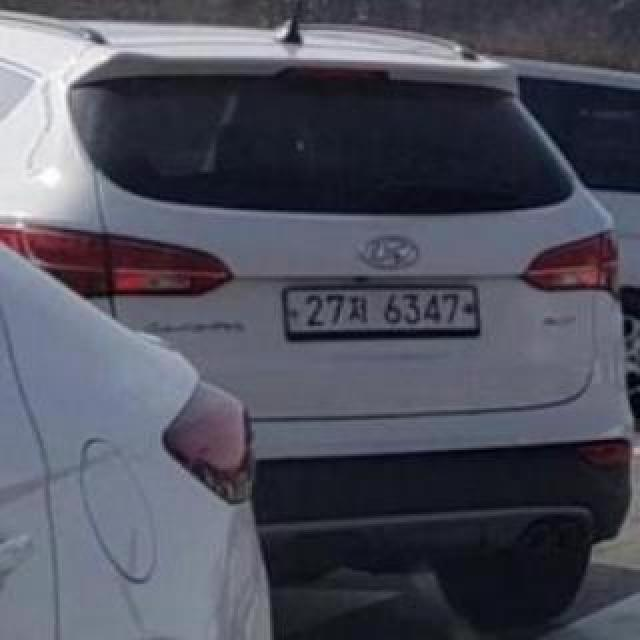car: (5, 14, 633, 584)
illegal_plate: (284, 282, 483, 345)
